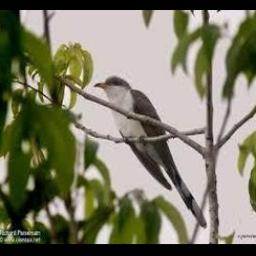Cuckoo: (93, 75, 206, 229)
